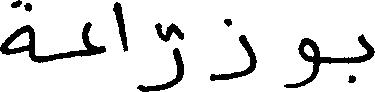X: (211, 14, 256, 85), (141, 18, 182, 91), (284, 33, 319, 91), (0, 0, 31, 64), (82, 17, 104, 60), (112, 0, 127, 56), (360, 29, 374, 67)
